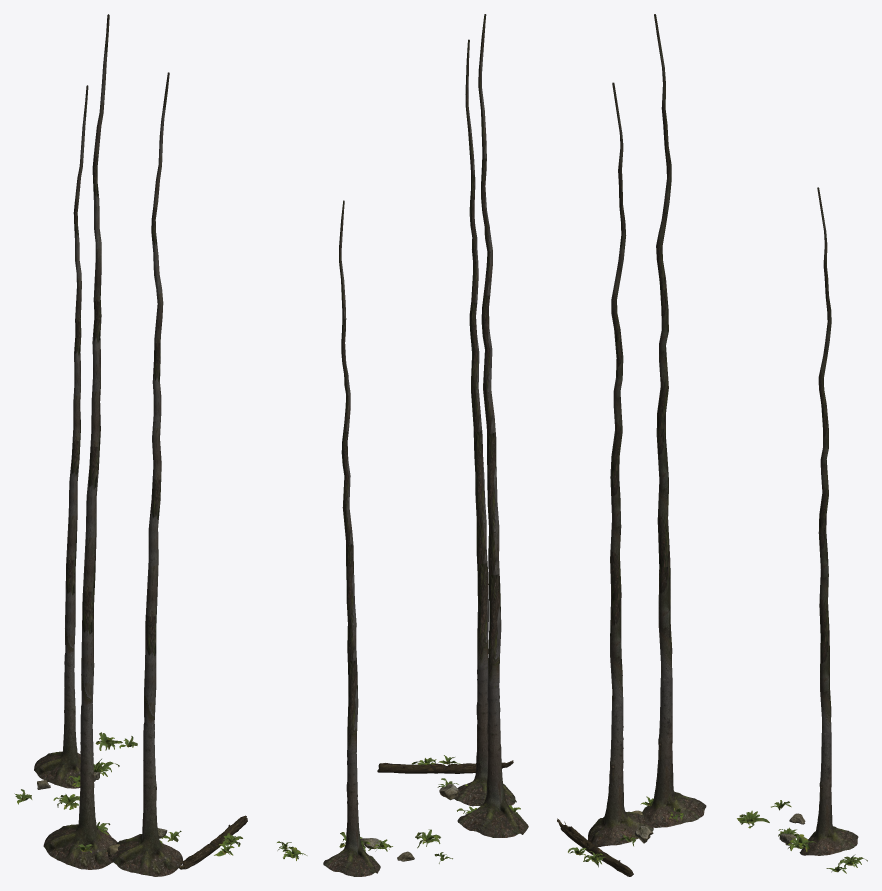
3 renders of one model, left to right at view 1: azimuth 30°, elevation 25°; view 2: azimuth 150°, elevation 25°; view 3: azimuth 270°, elevation 25°, orthographic. The views are drawn at different scales.
Visible parts, largest first — view 1: pine-trunk-3, pine-trunk-2, pine-trunk-1, fallen-dead-tree; view 2: pine-trunk-3, pine-trunk-2, pine-trunk-1, fallen-dead-tree; view 3: pine-trunk-3, pine-trunk-2, pine-trunk-1, fallen-dead-tree.
Part boxes in pixels (<box>): pine-trunk-3: <box>43,14,117,869</box>; pine-trunk-2: <box>108,72,182,876</box>; pine-trunk-1: <box>34,85,88,788</box>; fallen-dead-tree: <box>179,815,247,869</box>; pine-trunk-3: <box>457,14,528,837</box>; pine-trunk-2: <box>454,39,516,806</box>; pine-trunk-1: <box>323,200,380,876</box>; fallen-dead-tree: <box>377,760,513,773</box>; pine-trunk-3: <box>641,14,706,827</box>; pine-trunk-2: <box>588,82,653,846</box>; pine-trunk-1: <box>799,187,858,855</box>; fallen-dead-tree: <box>557,818,633,876</box>.
Size of the model in its own units: 3.72 by 17.19 by 5.93.
Materials: 4 (4 with a texture image).
